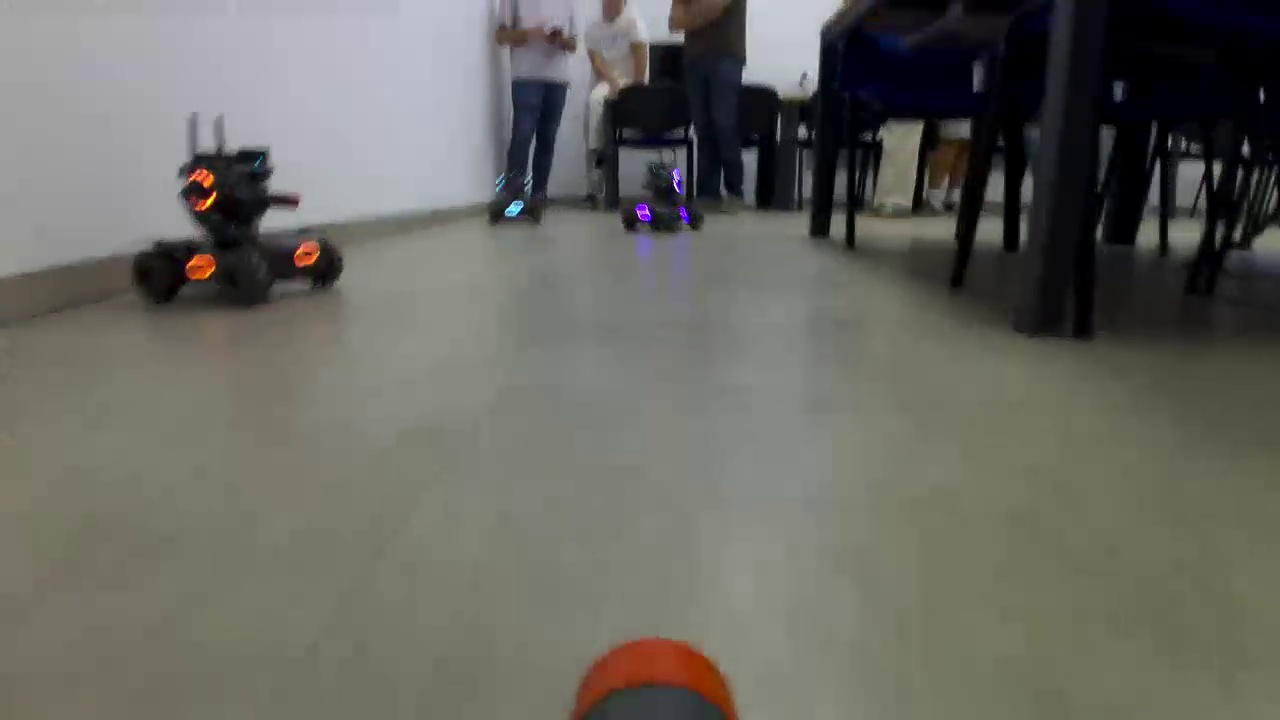robot: (129, 144, 335, 303), (620, 164, 698, 235), (490, 176, 538, 225)
